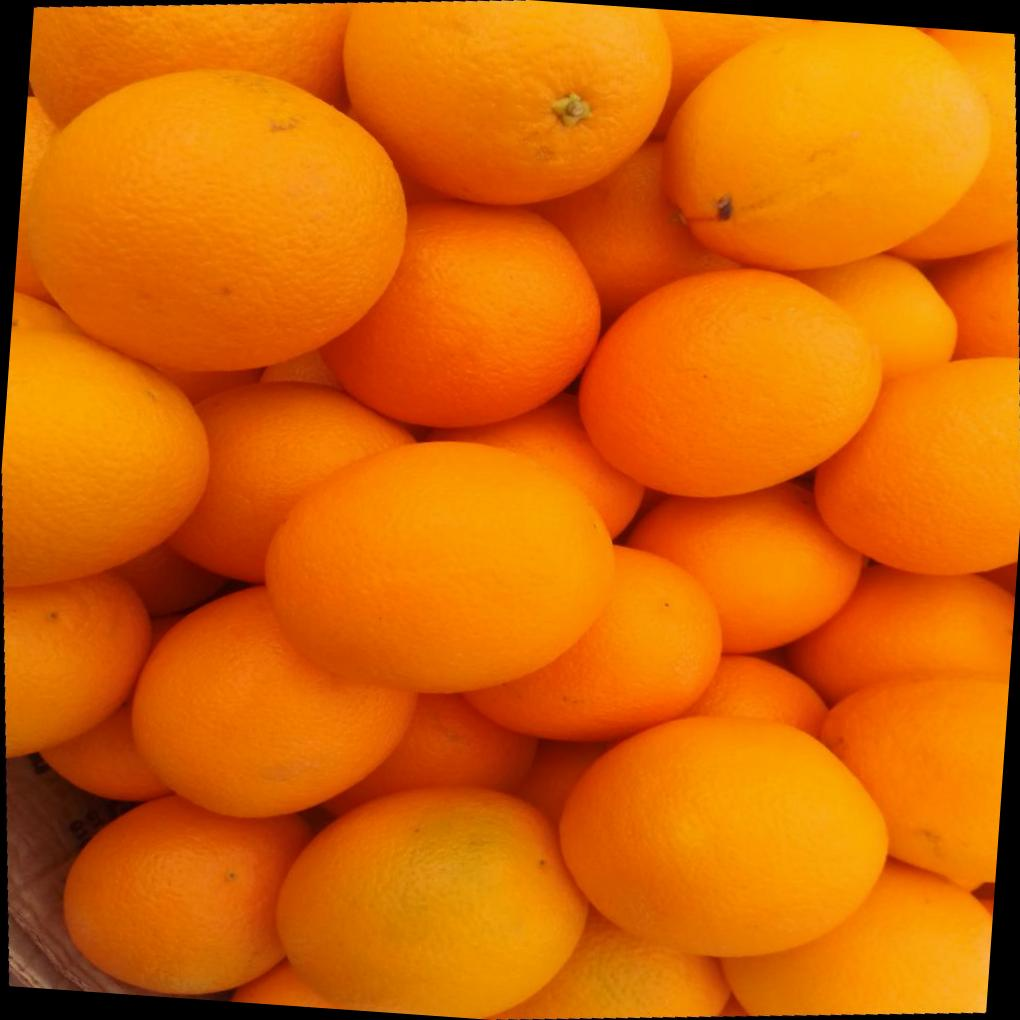FreshGuava: (7, 0, 1020, 1020)
